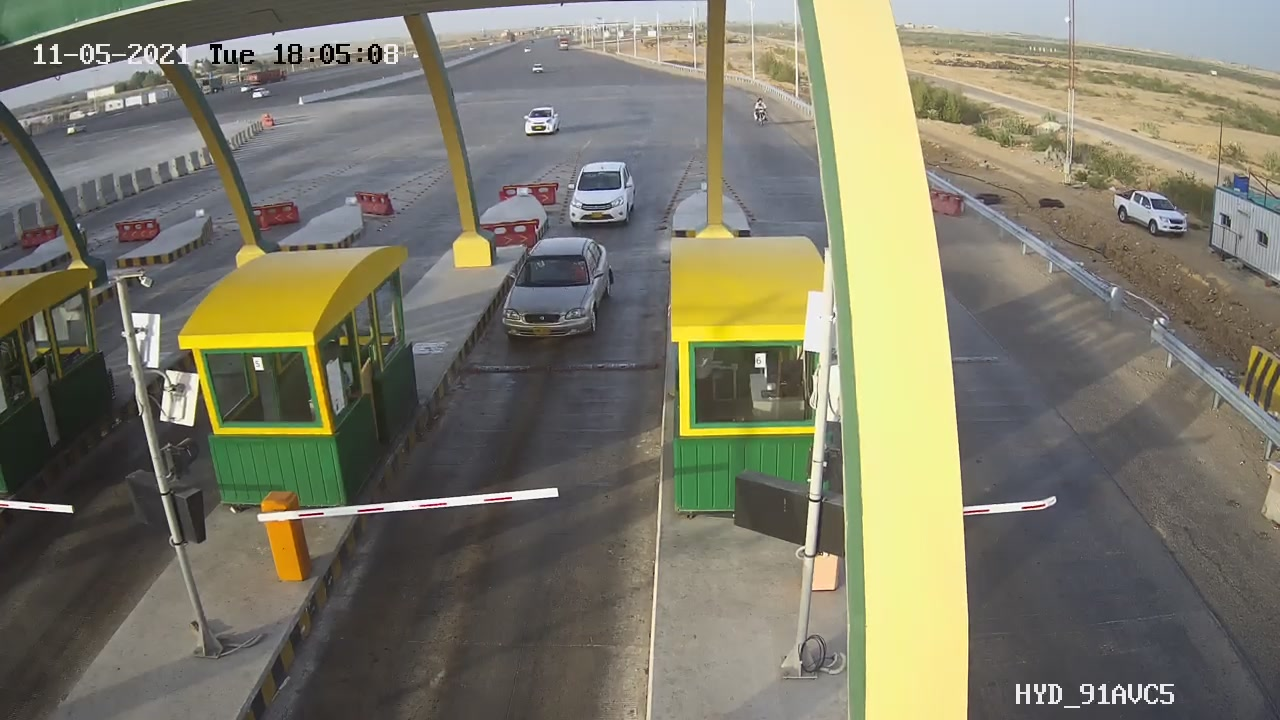F1: (499, 231, 638, 352), (557, 156, 651, 231)
